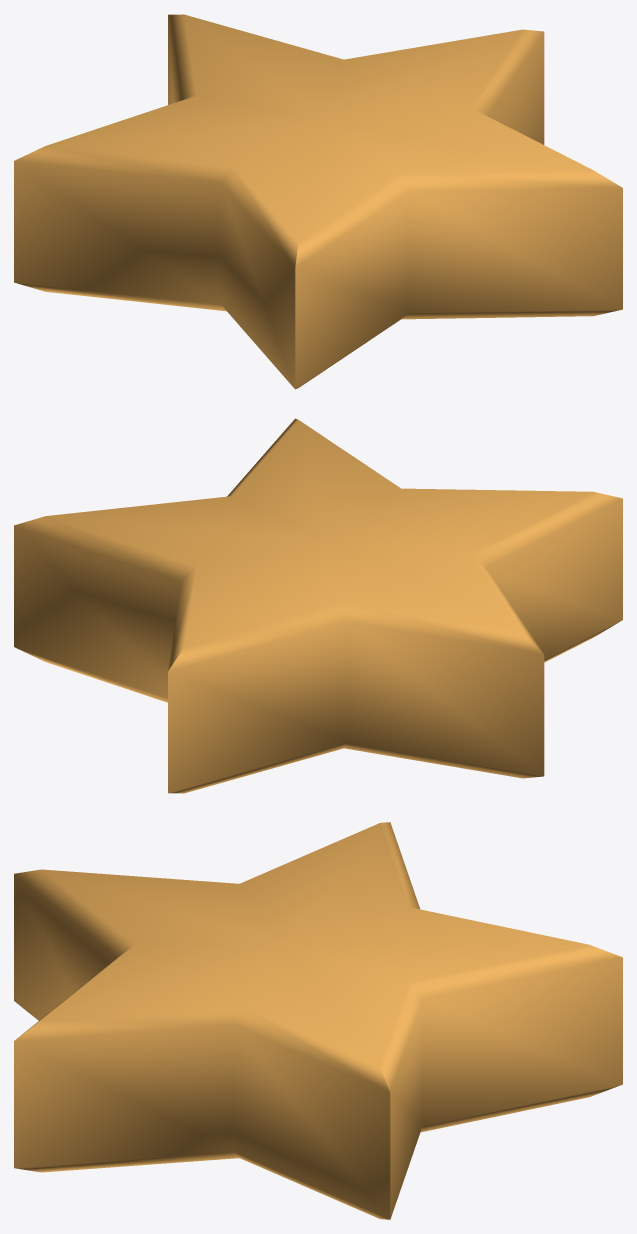
Rendered from Star_5P_02.fbx.
3 renders of one model, top to bottom at view 1: azimuth 30°, elevation 25°; view 2: azimuth 150°, elevation 25°; view 3: azimuth 270°, elevation 25°, orthographic. The views are drawn at different scales.
Visible parts, largest first — view 1: Star_5P_02; view 2: Star_5P_02; view 3: Star_5P_02.
Part boxes in pixels (x1,y1,x2,y2): Star_5P_02: [14, 14, 622, 389]; Star_5P_02: [14, 418, 622, 793]; Star_5P_02: [14, 822, 622, 1219].
Size of the model in its own units: 380 by 100 by 362.
